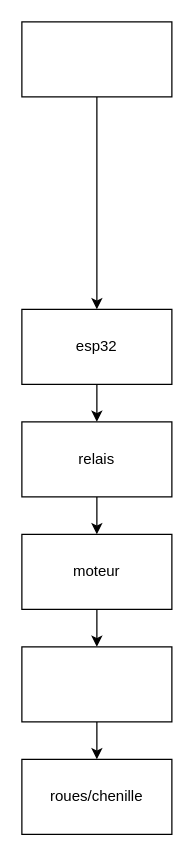
Image size: 194x856. Some labels were removed from this diagram. The shapes that lost their labels are listed below. From the top down, each one's box as (x1, y1, x2, y2) in pixels, then its label:
(21, 21, 172, 97): batterie
(21, 646, 172, 722): (réducteur)
